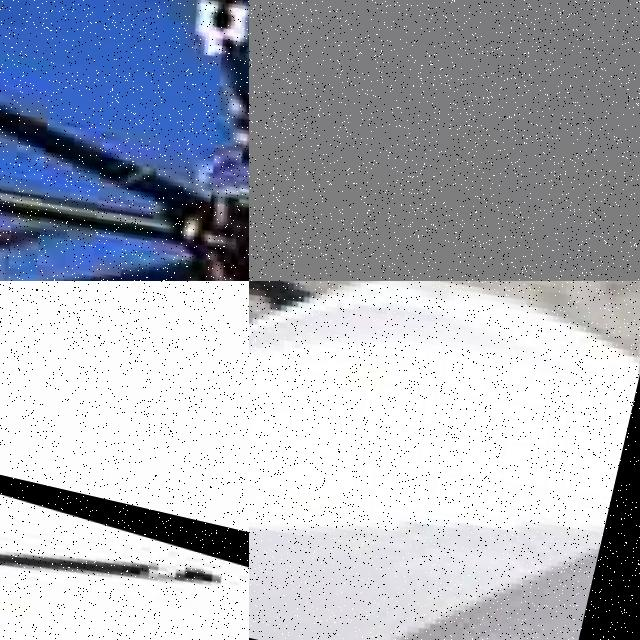0: (0, 0, 249, 281)
drone: (249, 281, 640, 640), (0, 403, 249, 640)
